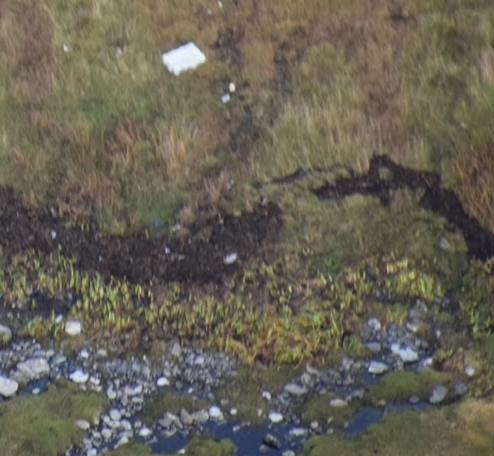scattered_barrel: (56, 1, 249, 108)
white_in_green: (137, 13, 226, 96)
